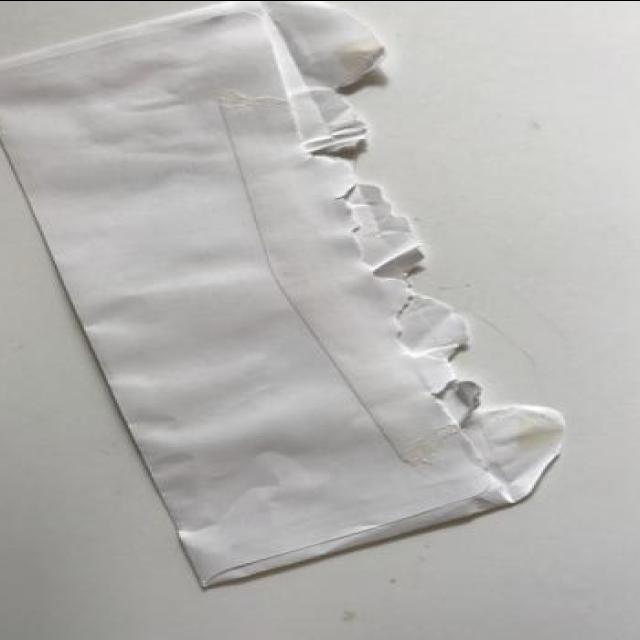kertas: (0, 0, 572, 587)
